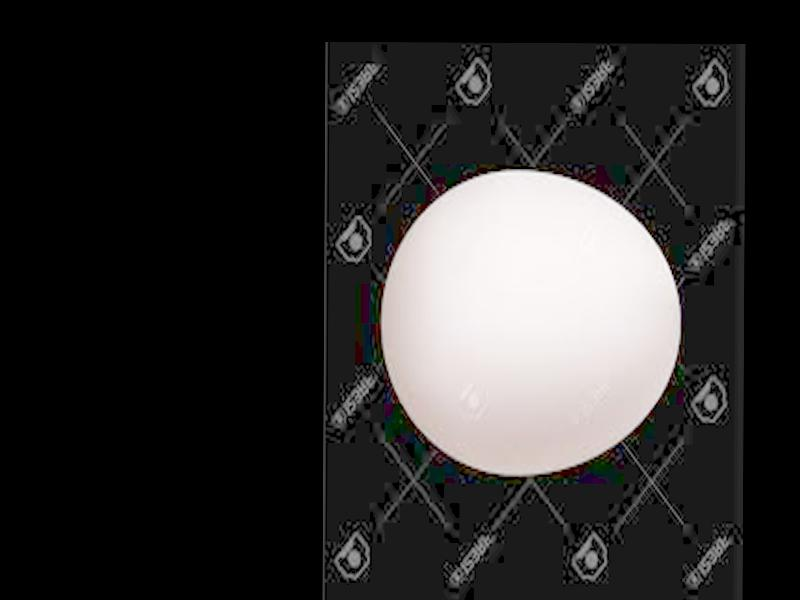Eggs: (382, 171, 679, 471)
